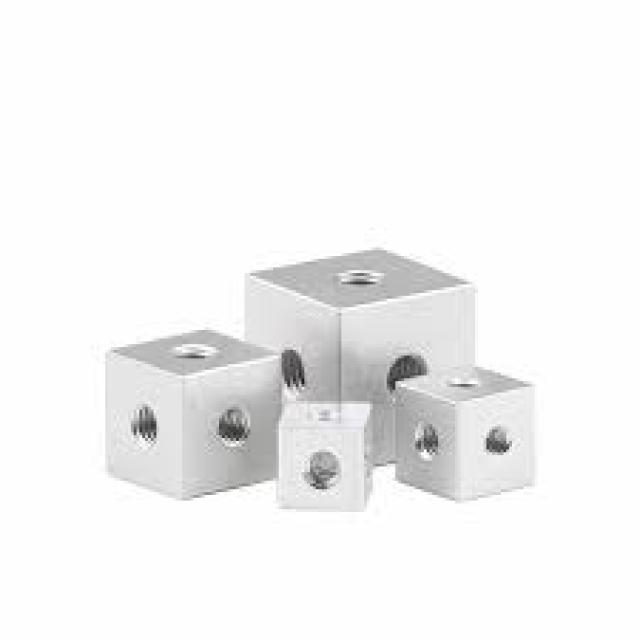Milling: (226, 213, 500, 373), (76, 324, 287, 524), (387, 359, 562, 511), (261, 393, 401, 546)
